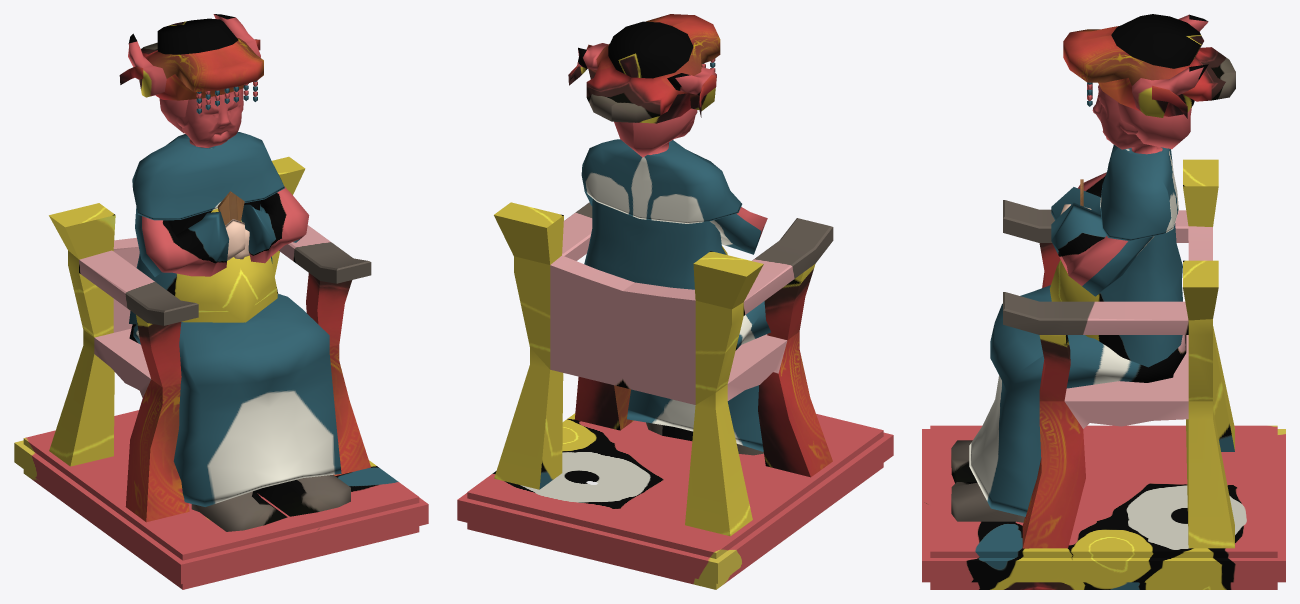
Rendered from mother 1.fbx.
3 views of the same model, side by side, from view 1: azimuth 30°, elevation 25°; view 2: azimuth 150°, elevation 25°; view 3: azimuth 270°, elevation 25° (orthographic). The views are drawn at different scales.
Visible parts, largest first — view 1: pSphere23, hand02, hand03; view 2: pSphere23; view 3: pSphere23.
Part boxes in pixels (x1=…): pSphere23: x1=14, y1=14, x2=428, y2=589; hand02: x1=225, y1=219, x2=245, y2=260; hand03: x1=217, y1=191, x2=244, y2=224; pSphere23: x1=457, y1=14, x2=893, y2=589; pSphere23: x1=922, y1=14, x2=1285, y2=589.
Bounding box in the file's own units: 72.35 × 129 × 84.35.
